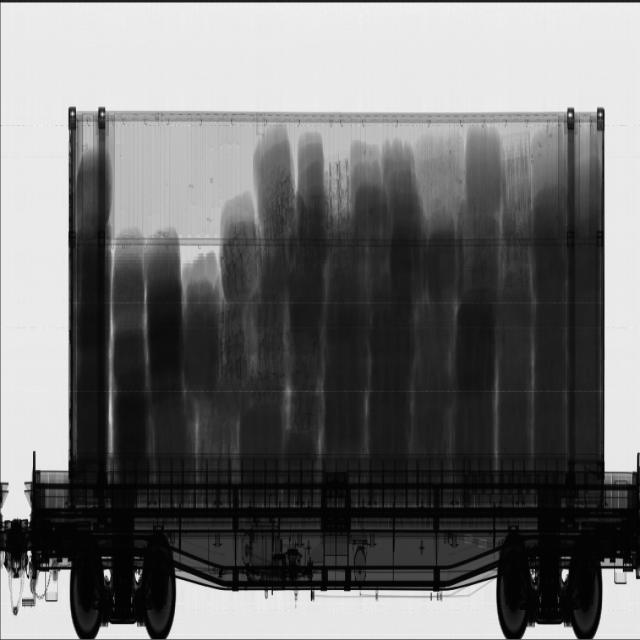clothes: (290, 142, 426, 452)
shoes: (220, 152, 354, 438), (501, 134, 531, 215)
textiles: (416, 123, 598, 456)
